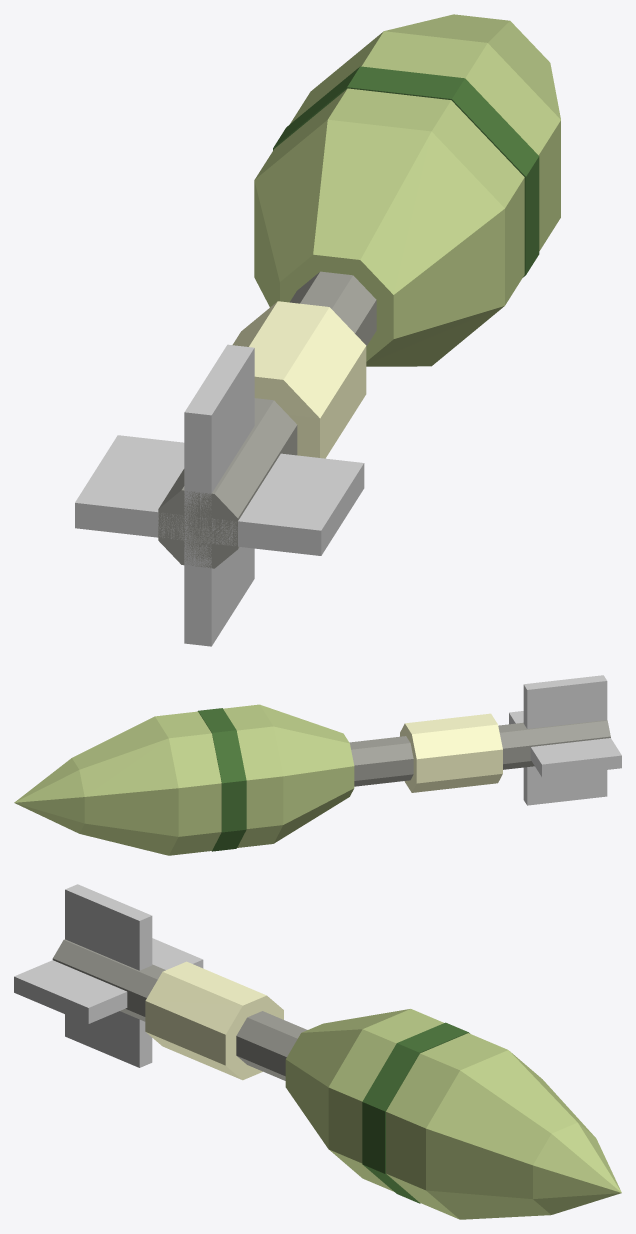
File: ce_ammo_mortar_toxic_a.obj
3 renders of one model, top to bottom at view 1: azimuth 30°, elevation 25°; view 2: azimuth 150°, elevation 25°; view 3: azimuth 270°, elevation 25°, orthographic. The views are drawn at different scales.
Visible parts, largest first — view 1: ce_ammo_mortar_toxic_a_2, ce_ammo_mortar_toxic_a_8, ce_ammo_mortar_toxic_a_9, ce_ammo_mortar_toxic_a_1, ce_ammo_mortar_toxic_a_0, ce_ammo_mortar_toxic_a_5, ce_ammo_mortar_toxic_a_3, ce_ammo_mortar_toxic_a_4, ce_ammo_mortar_toxic_a_6; view 2: ce_ammo_mortar_toxic_a_6, ce_ammo_mortar_toxic_a_2, ce_ammo_mortar_toxic_a_1, ce_ammo_mortar_toxic_a_9, ce_ammo_mortar_toxic_a_5, ce_ammo_mortar_toxic_a_0, ce_ammo_mortar_toxic_a_3, ce_ammo_mortar_toxic_a_4, ce_ammo_mortar_toxic_a_8, ce_ammo_mortar_toxic_a_7; view 3: ce_ammo_mortar_toxic_a_6, ce_ammo_mortar_toxic_a_1, ce_ammo_mortar_toxic_a_9, ce_ammo_mortar_toxic_a_5, ce_ammo_mortar_toxic_a_3, ce_ammo_mortar_toxic_a_0, ce_ammo_mortar_toxic_a_7, ce_ammo_mortar_toxic_a_2, ce_ammo_mortar_toxic_a_8, ce_ammo_mortar_toxic_a_4.
Part boxes in pixels (x1,y1,x2,y2): ce_ammo_mortar_toxic_a_2: (254,119,504,366); ce_ammo_mortar_toxic_a_8: (75,435,364,555); ce_ammo_mortar_toxic_a_9: (184,344,254,646); ce_ammo_mortar_toxic_a_1: (232,301,366,458); ce_ammo_mortar_toxic_a_0: (158,271,376,568); ce_ammo_mortar_toxic_a_5: (290,31,560,250); ce_ammo_mortar_toxic_a_3: (255,88,524,305); ce_ammo_mortar_toxic_a_4: (273,66,539,277); ce_ammo_mortar_toxic_a_6: (384,14,560,119); ce_ammo_mortar_toxic_a_6: (72,716,178,855); ce_ammo_mortar_toxic_a_2: (260,704,354,843); ce_ammo_mortar_toxic_a_1: (400,713,502,792); ce_ammo_mortar_toxic_a_9: (523,675,607,805); ce_ammo_mortar_toxic_a_5: (155,711,221,855); ce_ammo_mortar_toxic_a_0: (349,720,610,786); ce_ammo_mortar_toxic_a_3: (223,704,283,847); ce_ammo_mortar_toxic_a_4: (197,708,246,851); ce_ammo_mortar_toxic_a_8: (509,711,621,777); ce_ammo_mortar_toxic_a_7: (14,758,84,833); ce_ammo_mortar_toxic_a_6: (426,1050,595,1219); ce_ammo_mortar_toxic_a_1: (145,961,283,1080); ce_ammo_mortar_toxic_a_9: (65,884,152,1067); ce_ammo_mortar_toxic_a_5: (386,1033,507,1219); ce_ammo_mortar_toxic_a_3: (328,1009,443,1191); ce_ammo_mortar_toxic_a_0: (52,939,307,1080); ce_ammo_mortar_toxic_a_7: (533,1122,621,1214); ce_ammo_mortar_toxic_a_2: (285,1009,409,1148); ce_ammo_mortar_toxic_a_8: (14,938,203,1023); ce_ammo_mortar_toxic_a_4: (362,1022,469,1203).
Size of the model in its own units: 0.7495 by 0.2052 by 0.7495.
